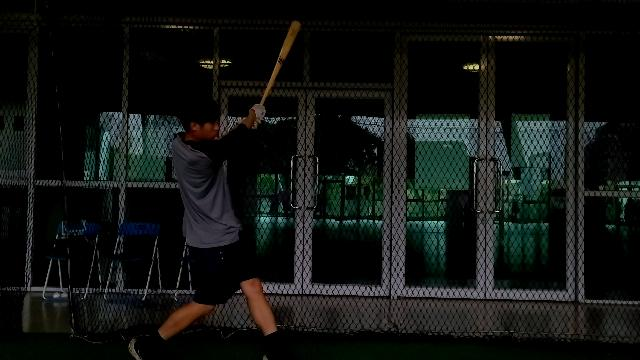bat: (260, 18, 302, 106)
